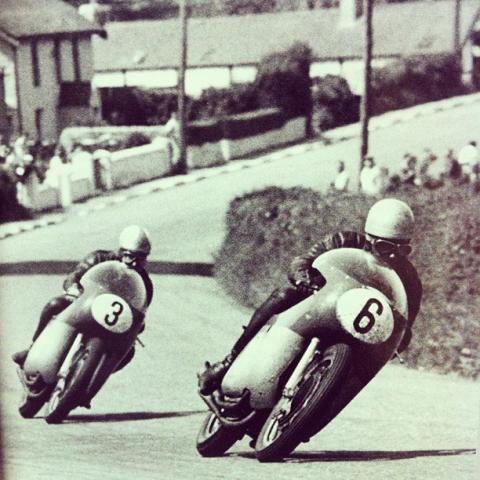motorcycle: (193, 242, 413, 462), (15, 257, 150, 426)
